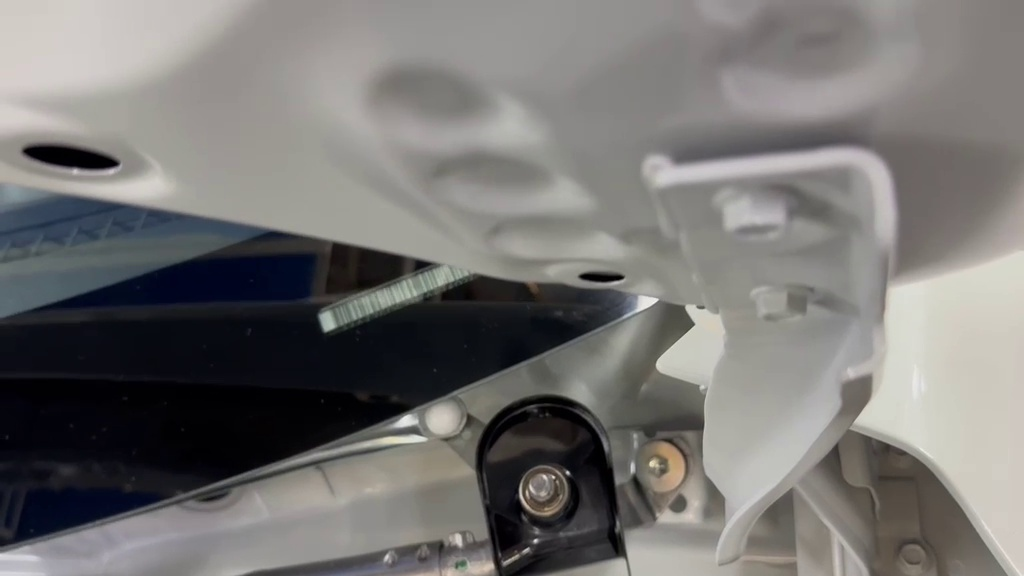barcode: (460, 393, 641, 573)
hinge: (297, 222, 528, 359)
